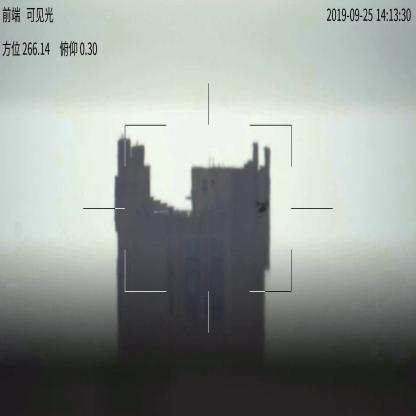uav: (254, 196, 272, 217)
